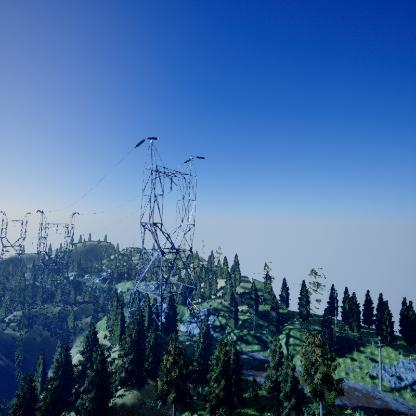tower: (126, 132, 209, 329), (34, 206, 80, 284), (0, 207, 31, 260)
